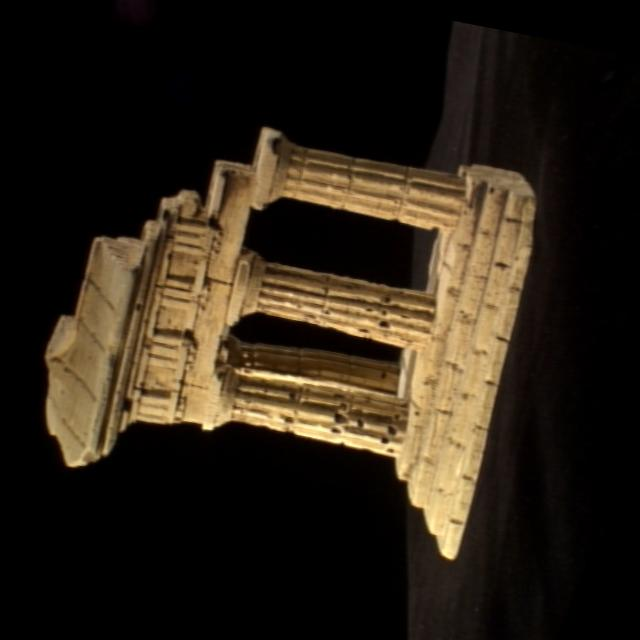Instance-Segmentation: (45, 128, 535, 558)
